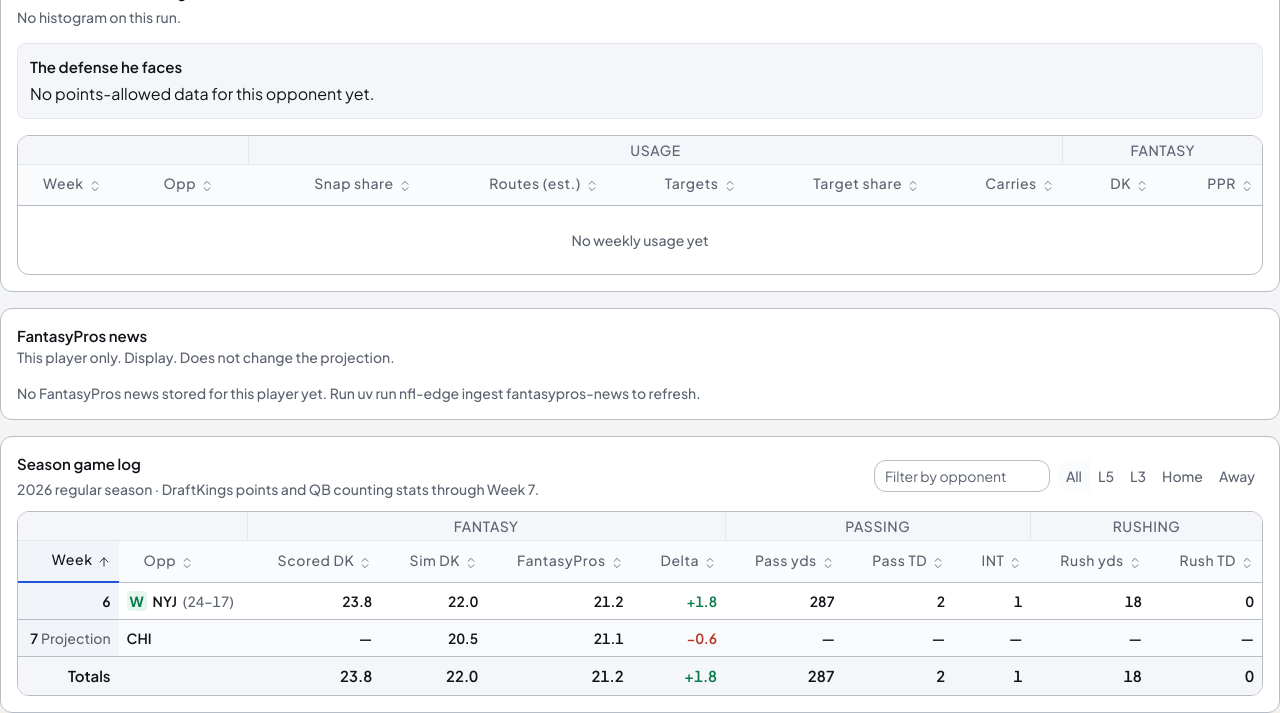
Test case: player analysis without props › shows a unified season game log table with scored, sim, FantasyPros, and counting stats when no lines are loaded
(page scrolled)
Expected: the heading "Season game log" is shown, top-left (17, 454), bottom-right (141, 473)
Expected: the column heading "Scored DK" is shown, top-left (247, 540), bottom-right (380, 582)
# Opponent filter input filters the game log rows
Type "CHI" into the search field with placeholder "Filter by opponent" at {"x": 962, "y": 476}, box top-left (874, 460), bottom-right (1050, 492)
(page scrolled)
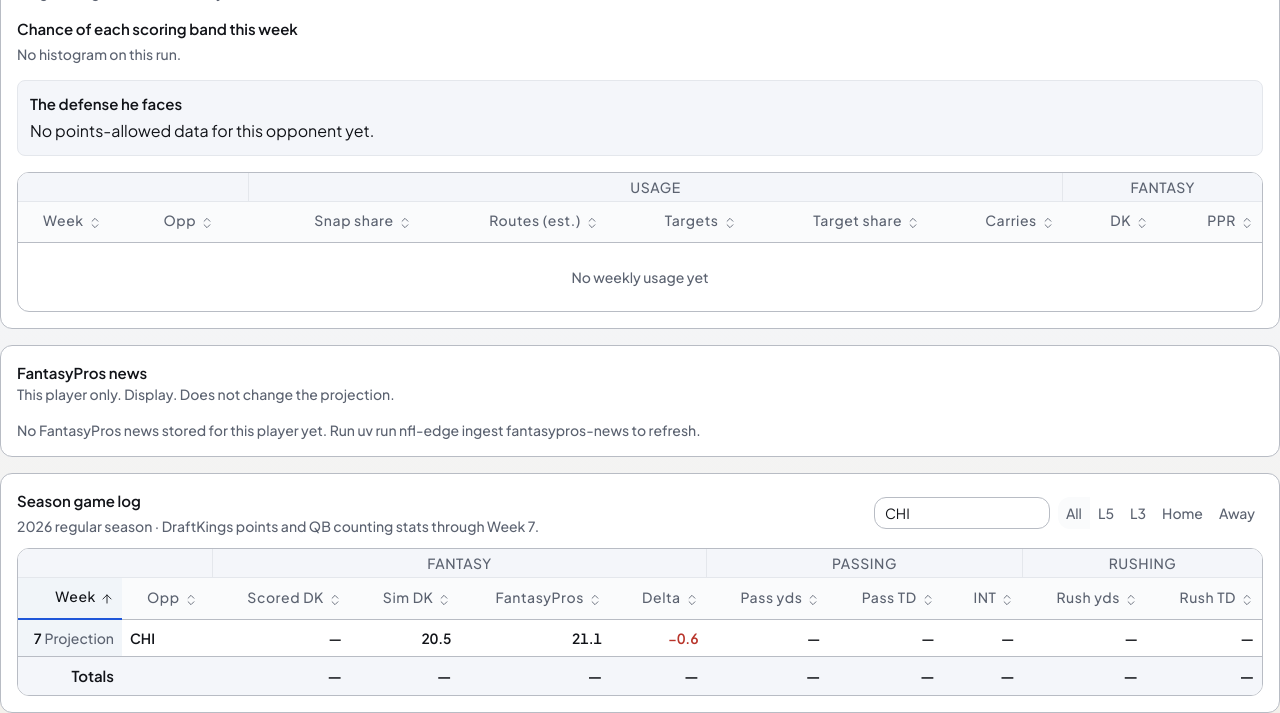
Expected: the text "(24–17)" is gone
